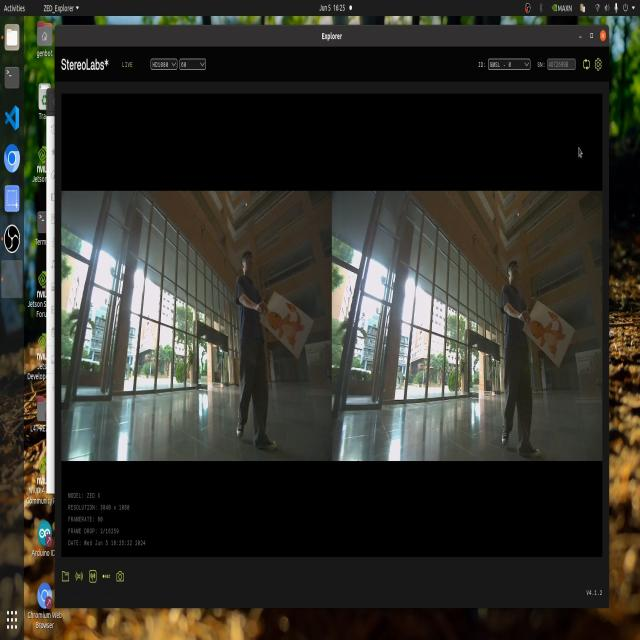red: (261, 289, 311, 346), (531, 301, 566, 353)
